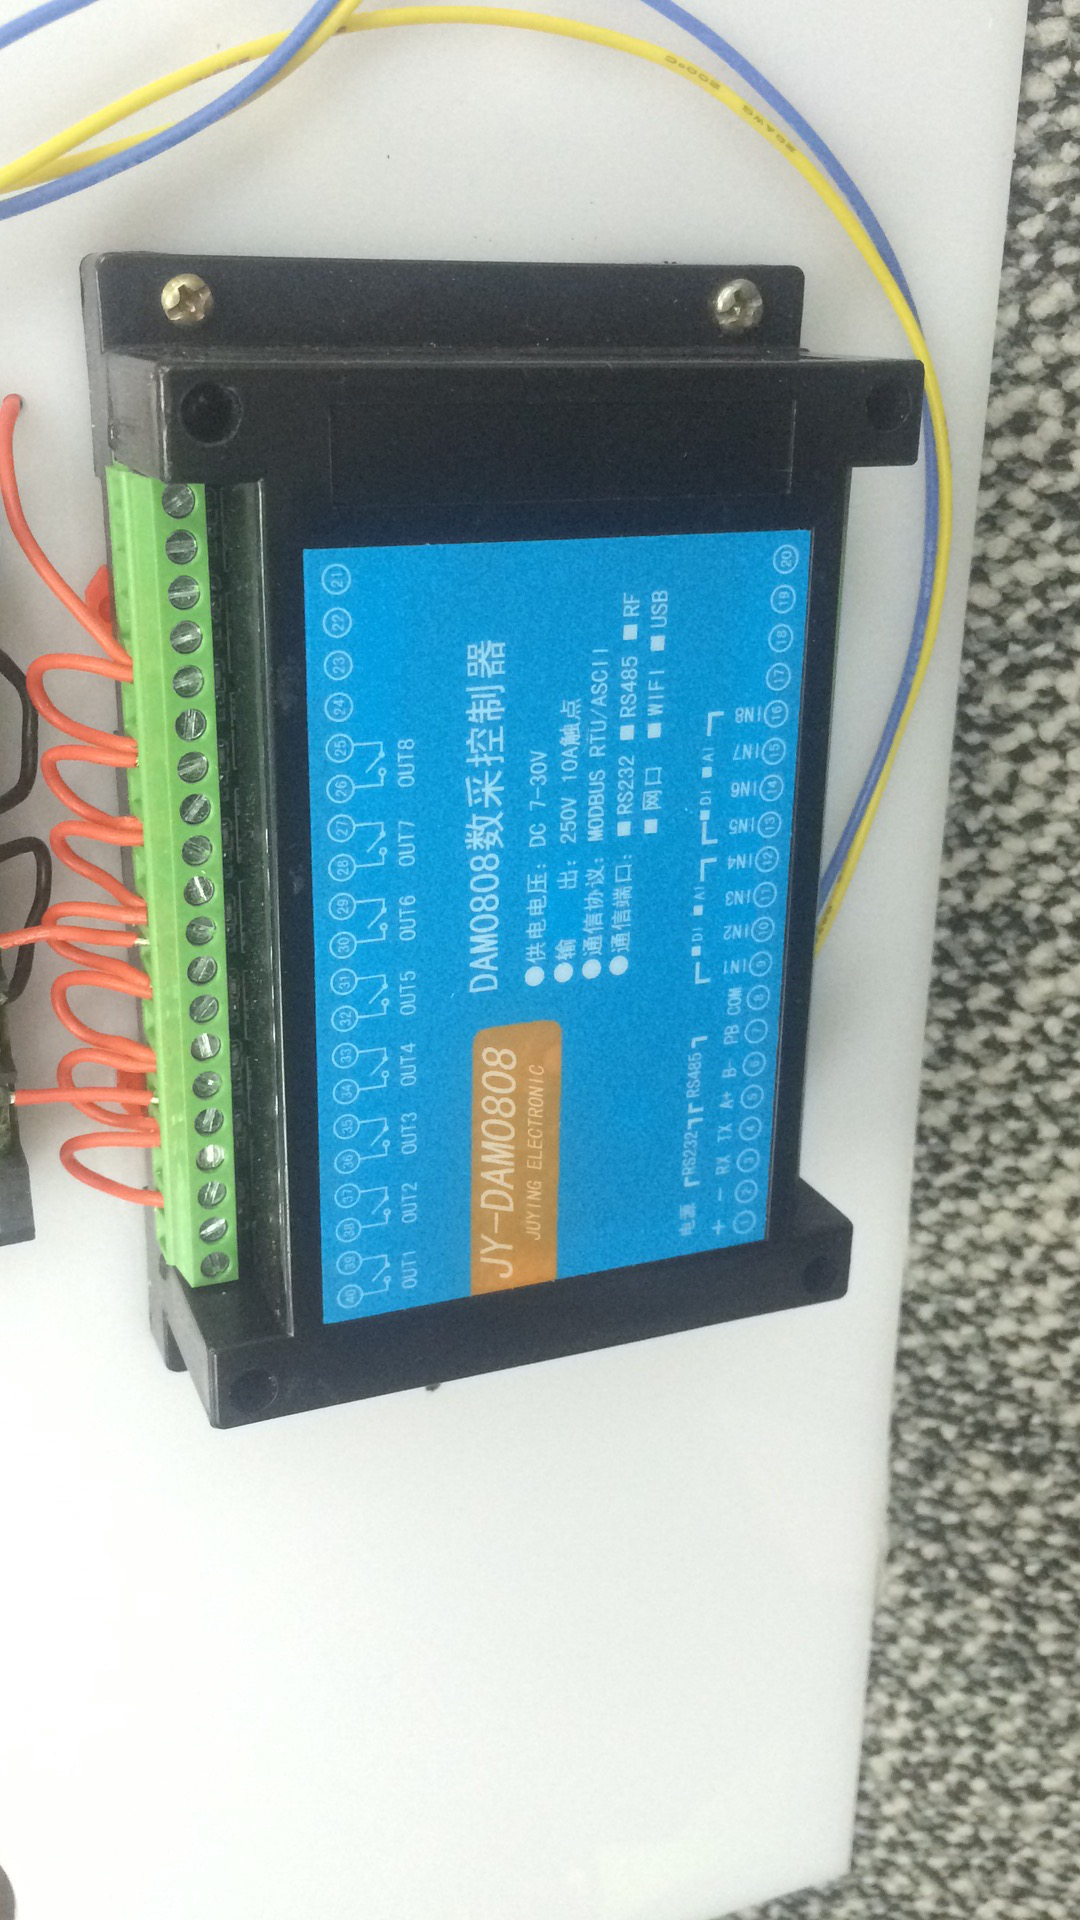relay: (53, 248, 893, 1429)
